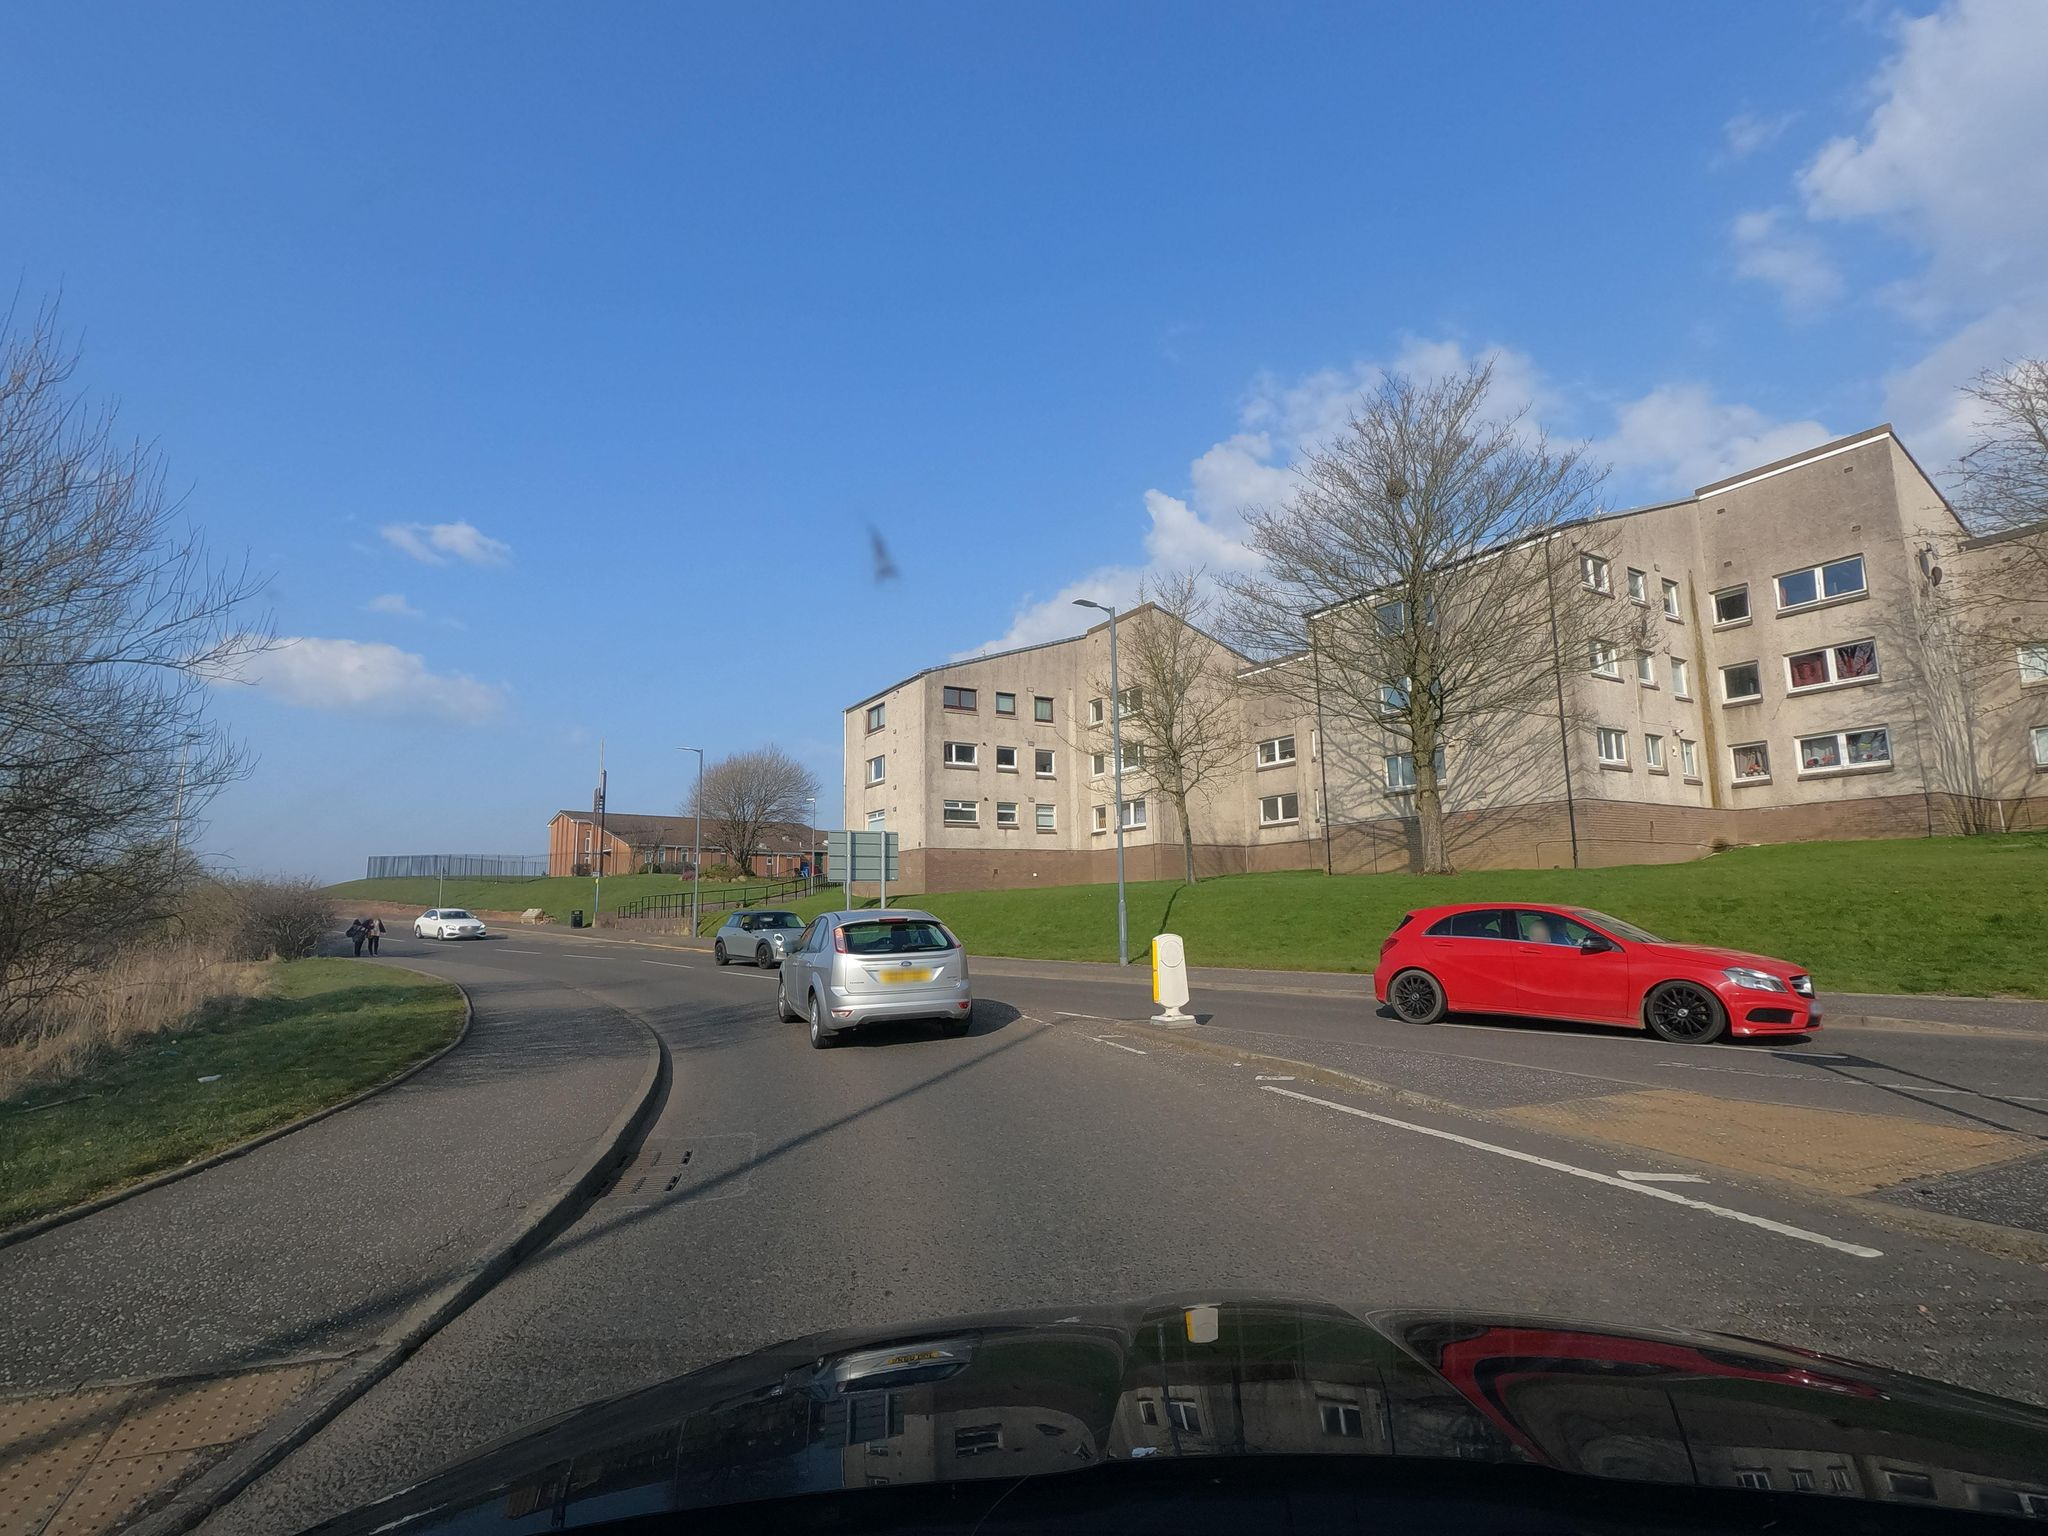car: (1372, 900, 1824, 1044), (776, 907, 976, 1046), (713, 908, 806, 970), (413, 908, 485, 941)
